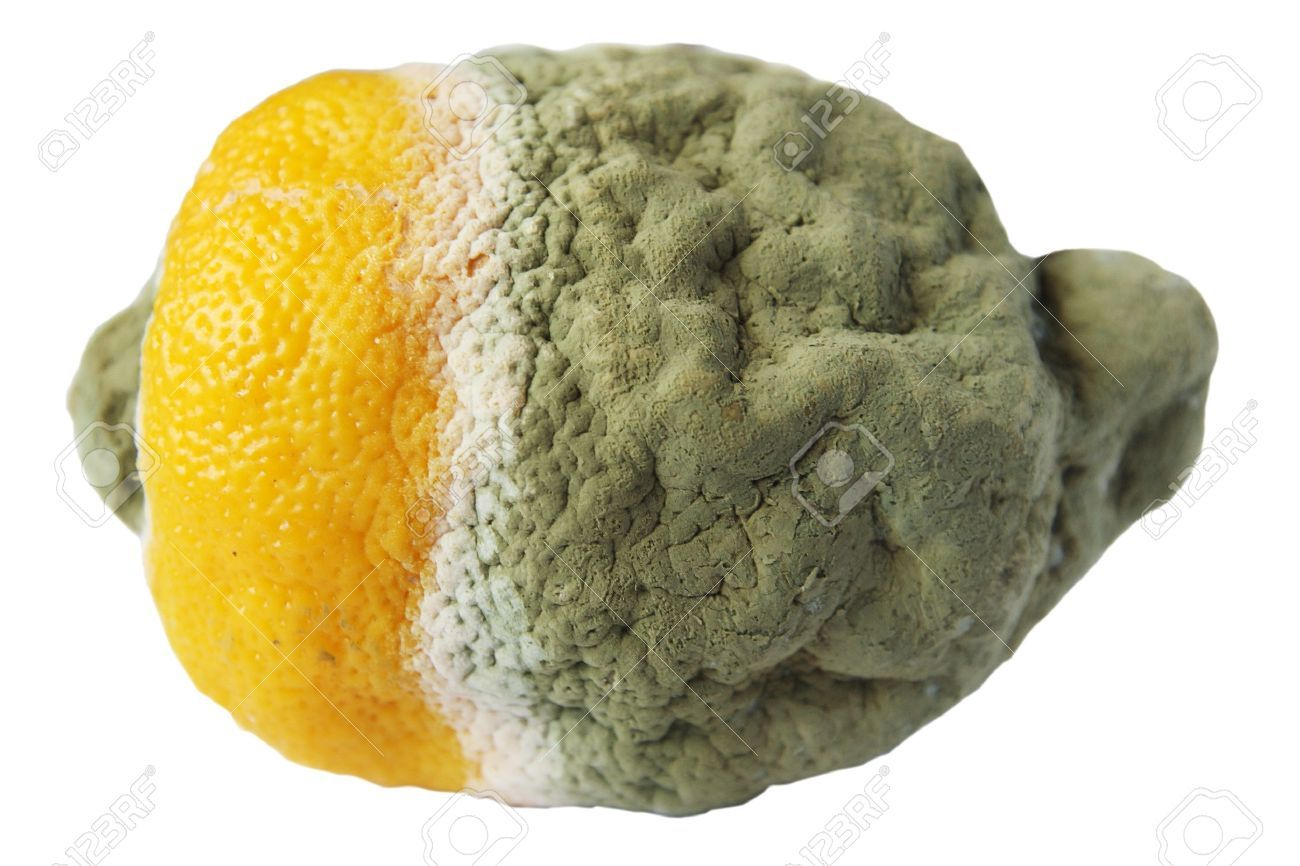lemon: (67, 44, 1219, 823)
rotten: (413, 46, 1217, 815), (69, 251, 156, 553)
